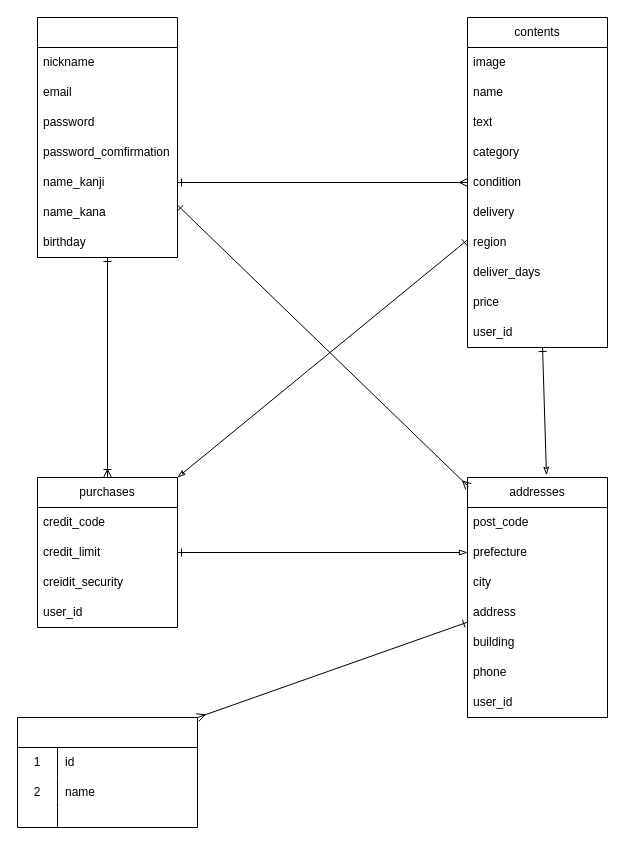
This 625x845 diagram has some shape labels left out. The box of each missing label's shape, as (x1, y1, x2, y2) in pixels:
prefectures: (16, 716, 198, 828)
users: (36, 16, 178, 258)
